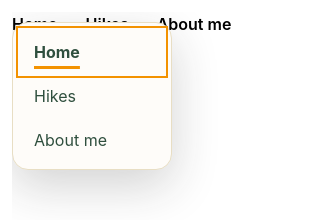
Test: selecting the current page section closes the main menu and releases its scroll lock
The image size is (332, 220).
Earlier steps of the test are not shown.
Click the menu item "Hikes": (55, 96) [34,86,76,106]
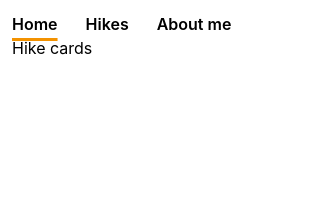
Now the menu is gone
